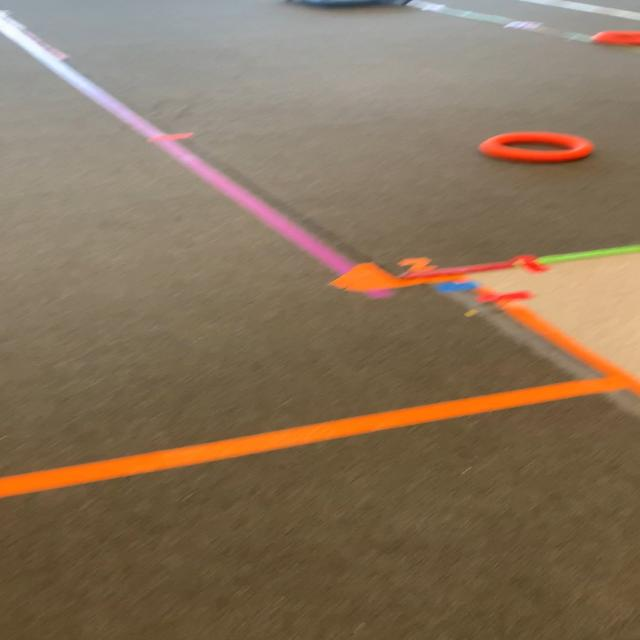notes: (480, 131, 592, 163), (596, 31, 640, 45)
